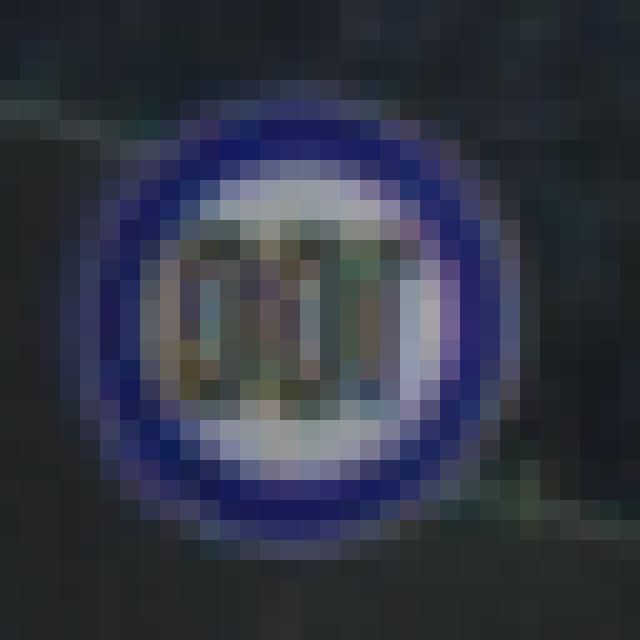SPEED LIMIT 100: (74, 101, 532, 547)
